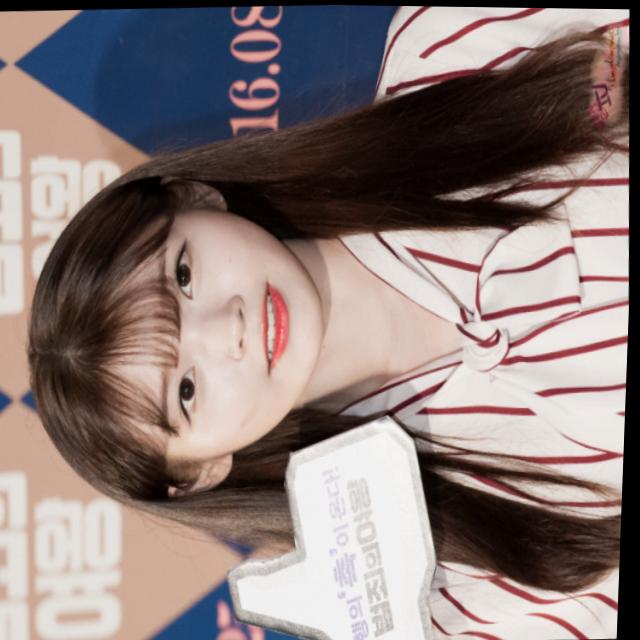face: (105, 207, 331, 458)
